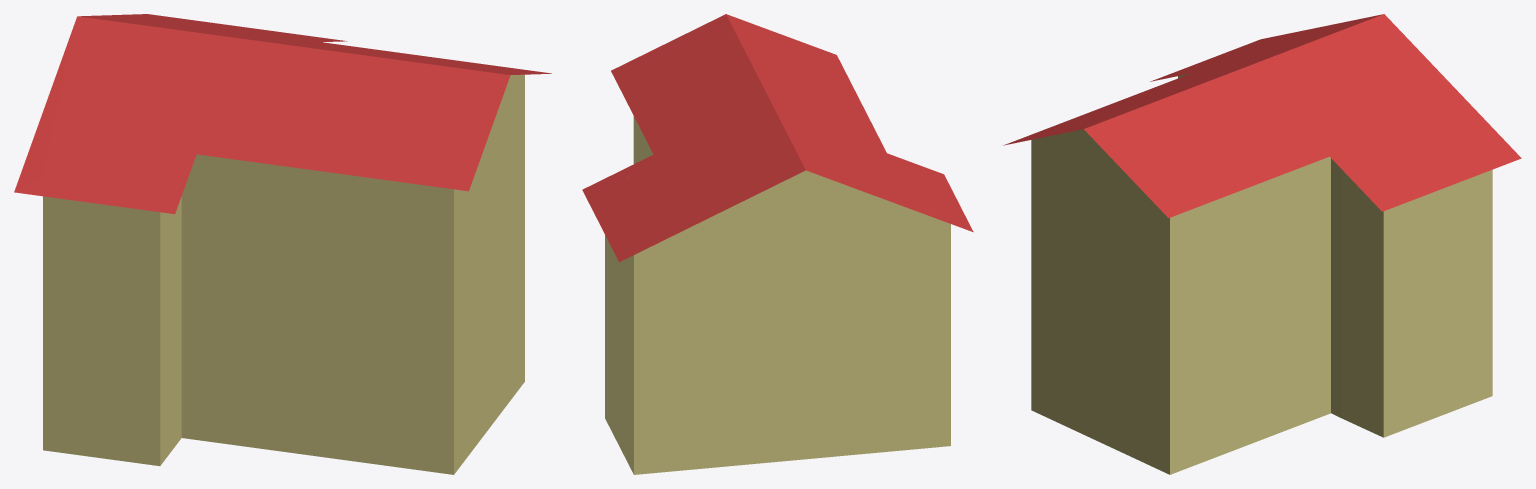
3 views of the same model, side by side, from view 1: azimuth 30°, elevation 25°; view 2: azimuth 150°, elevation 25°; view 3: azimuth 270°, elevation 25° (orthographic). The views are drawn at different scales.
Visible parts, largest first — view 1: group_5, group_3, group_4; view 2: group_5, group_3, group_4; view 3: group_5, group_3, group_4.
Part boxes in pixels (<box>): group_5: <box>43,74,524,474</box>; group_3: <box>43,16,523,212</box>; group_4: <box>14,14,551,214</box>; group_5: <box>605,116,950,474</box>; group_3: <box>605,14,950,244</box>; group_4: <box>582,14,973,262</box>; group_5: <box>1031,73,1492,474</box>; group_3: <box>1003,14,1510,217</box>; group_4: <box>1084,14,1521,217</box>.
Size of the model in its own units: 18.31 by 18.94 by 12.8.
